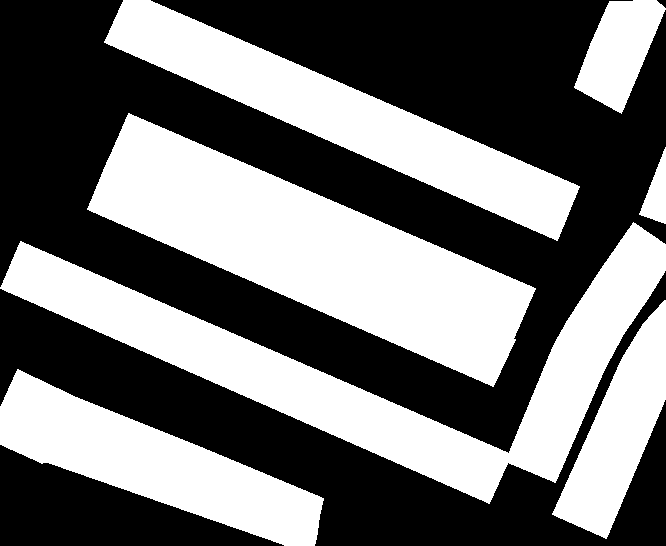parkingspot: (0, 241, 511, 503), (104, 0, 579, 240), (106, 113, 535, 341), (87, 158, 515, 386), (0, 369, 323, 545), (505, 222, 665, 482), (552, 300, 666, 538), (574, 0, 665, 113), (639, 145, 666, 223)
